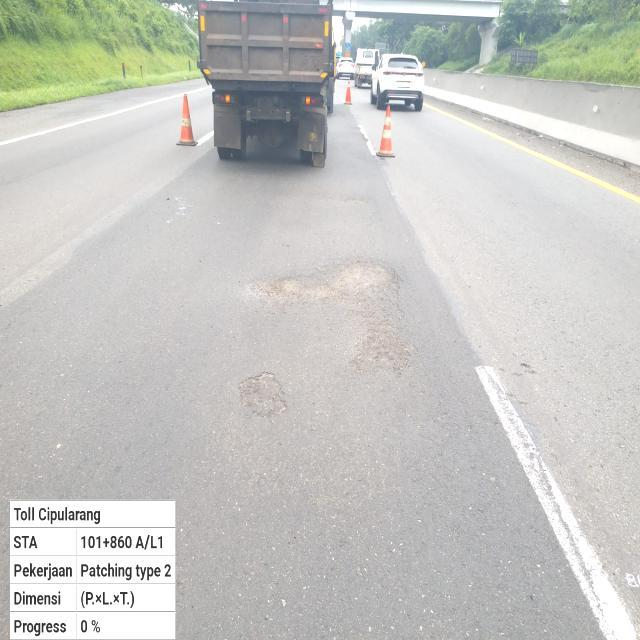Buraco: (240, 255, 420, 380), (234, 369, 292, 421)
